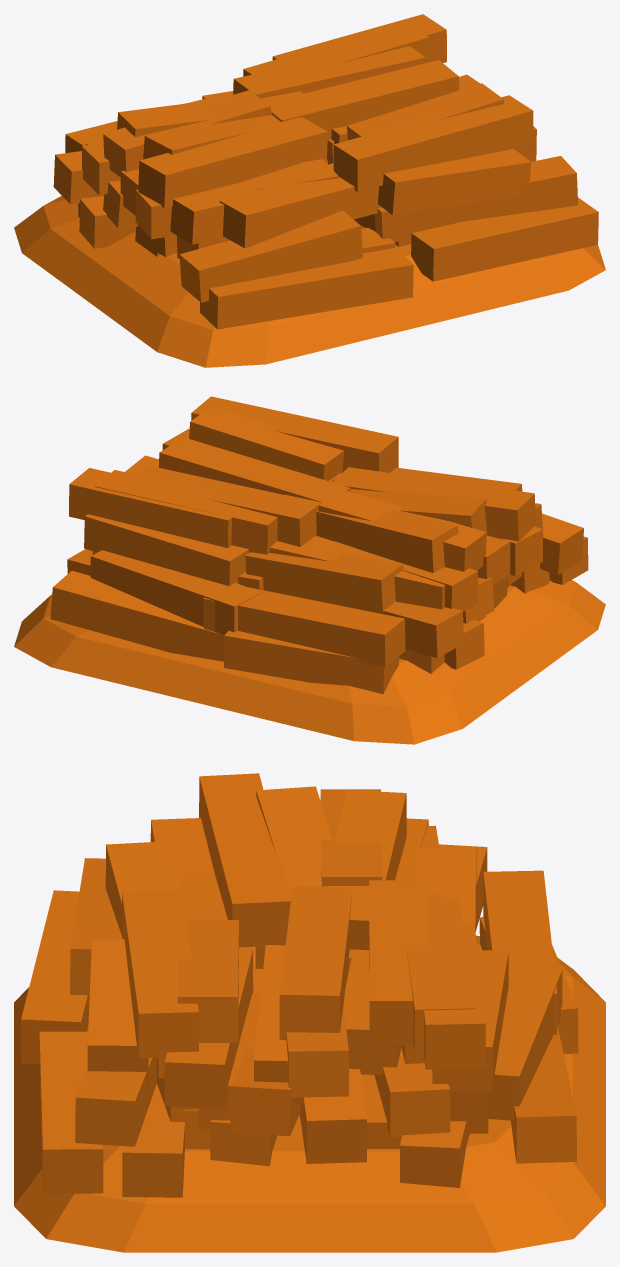
File: SM_Cook_Topping_Carrot_HD_01.fbx
3 renders of one model, top to bottom at view 1: azimuth 30°, elevation 25°; view 2: azimuth 150°, elevation 25°; view 3: azimuth 270°, elevation 25°, orthographic. The views are drawn at different scales.
Parts seen in each view (by area): view 1: SM_Cook_Topping_Carrot_HD_01; view 2: SM_Cook_Topping_Carrot_HD_01; view 3: SM_Cook_Topping_Carrot_HD_01.
Boxes of the visible parts, box(x1,y1,x2,y2) form: SM_Cook_Topping_Carrot_HD_01: box(14, 14, 605, 367); SM_Cook_Topping_Carrot_HD_01: box(14, 396, 605, 744); SM_Cook_Topping_Carrot_HD_01: box(14, 773, 605, 1252).
Bounding box in the file's own units: 0.128 × 0.0419 × 0.108.
1 material, 1 textured.
